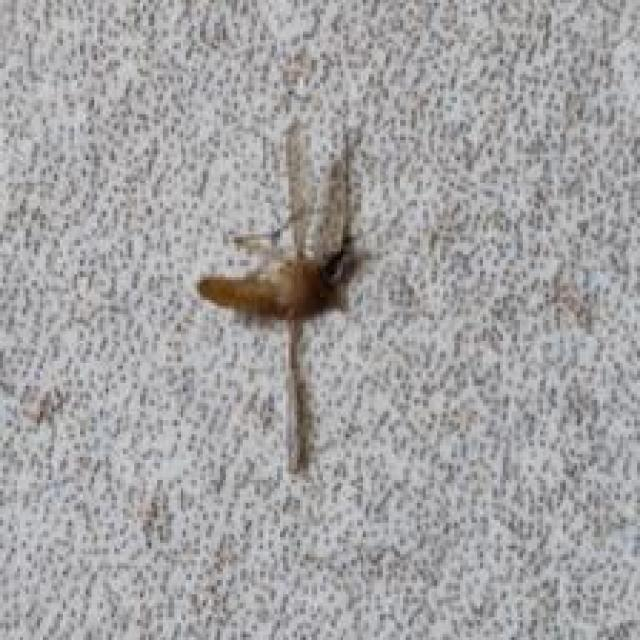Culex: (194, 116, 366, 476)
